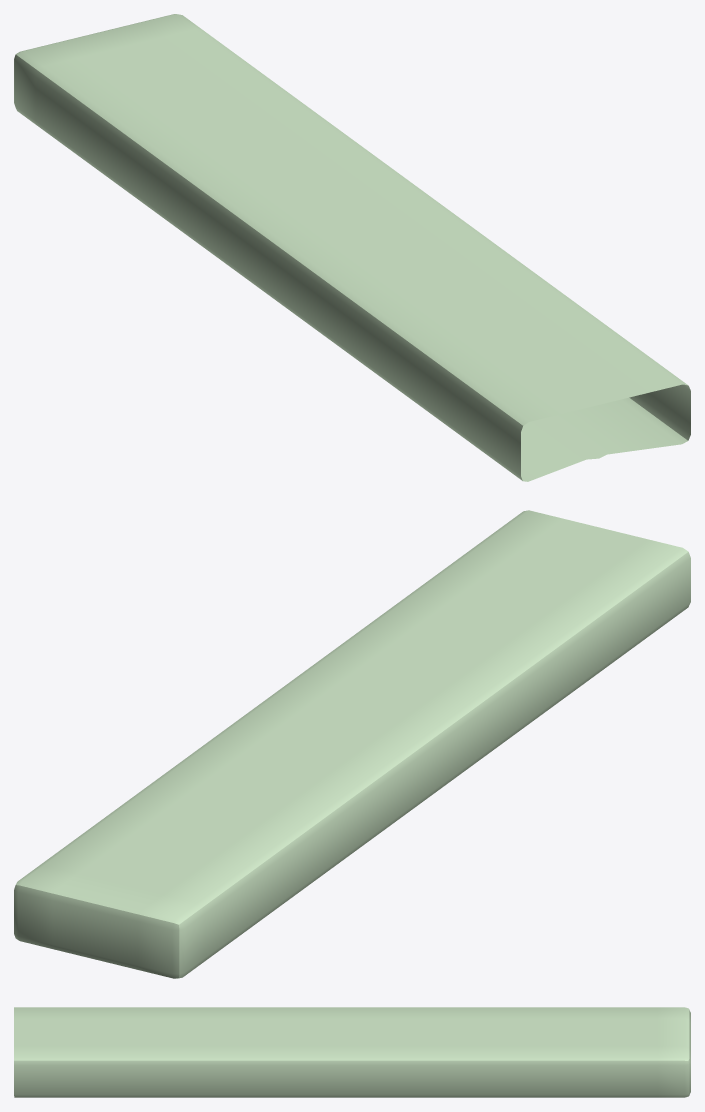
The model's file is supPipe_longCeil.001.fbx.
3 views of the same model, one above another, from view 1: azimuth 30°, elevation 25°; view 2: azimuth 150°, elevation 25°; view 3: azimuth 270°, elevation 25° (orthographic). The views are drawn at different scales.
Parts seen in each view (by area): view 1: supPipe_longCeil.001; view 2: supPipe_longCeil.001; view 3: supPipe_longCeil.001.
Boxes of the visible parts, box(x1,y1,x2,y2) form: supPipe_longCeil.001: box(14, 14, 690, 481); supPipe_longCeil.001: box(14, 510, 690, 978); supPipe_longCeil.001: box(14, 1007, 690, 1097).
Bounding box in the file's own units: 0.15 × 0.051 × 0.78.
